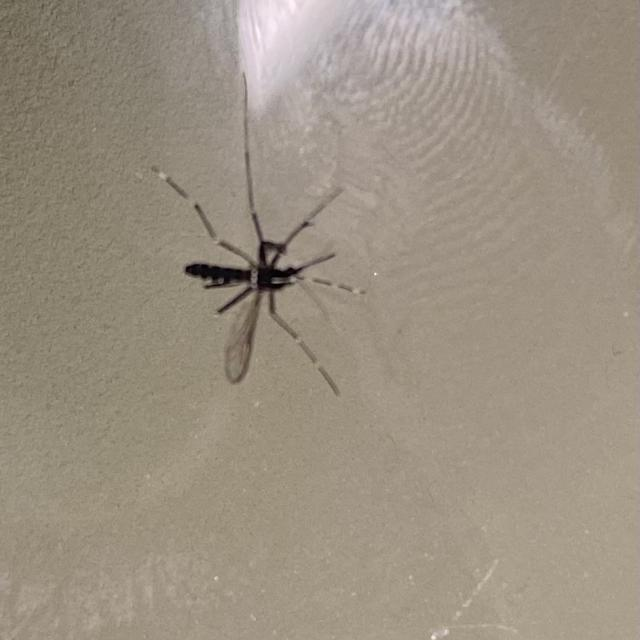albopictus: (136, 64, 368, 391)
